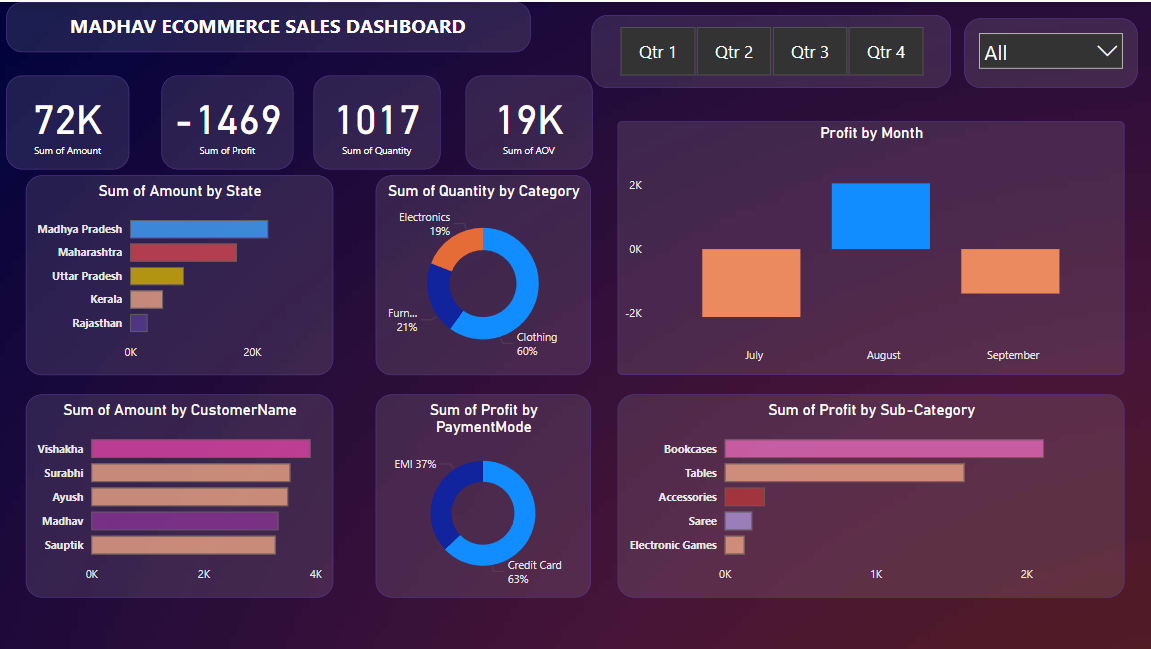

Layout of this report page (visuals, bound fields, positions):
{"tool":"powerbi","page":{"name":"Page 1","canvas":[1280,720],"ordinal":0},"visuals":[{"type":"textbox","box":[9.6,0,580.8,55.8],"z":0},{"type":"columnChart","title":"Profit by Month","fields":{"Category":["Orders.Order Date.Variation.Date Hierarchy.Month"],"Y":["Sum(Details.Profit)"]},"box":[686.5,132.7,561.5,280.8],"z":1000},{"type":"barChart","fields":{"Category":["Details.Sub-Category"],"Y":["Sum(Details.Profit)"]},"box":[686.5,434.6,561.5,225],"z":2000},{"type":"donutChart","fields":{"Category":["Details.Category"],"Y":["Sum(Details.Quantity)"]},"box":[419.2,192.3,238.5,221.2],"z":3000},{"type":"donutChart","fields":{"Category":["Details.PaymentMode"],"Y":["Sum(Details.Profit)"]},"box":[419.2,434.6,238.5,225],"z":4000},{"type":"card","fields":{"Values":["Sum(Details.Amount)"]},"box":[9.6,80.8,136.5,103.8],"z":5000},{"type":"card","fields":{"Values":["Sum(Details.Profit)"]},"box":[180.8,80.8,146.2,103.8],"z":6000},{"type":"card","fields":{"Values":["Sum(Details.Quantity)"]},"box":[350,80.8,140.4,103.8],"z":7000},{"type":"card","fields":{"Values":["Sum(Details.AOV)"]},"box":[517.3,80.8,140.4,103.8],"z":8000},{"type":"barChart","fields":{"Category":["Orders.State"],"Y":["Sum(Details.Amount)"]},"box":[30.8,192.3,340.4,221.2],"z":9000},{"type":"barChart","fields":{"Category":["Orders.CustomerName"],"Y":["Sum(Details.Amount)"]},"box":[30.8,434.6,340.4,225],"z":10000},{"type":"slicer","fields":{"Values":["Orders.Order Date.Variation.Date Hierarchy.Quarter"]},"box":[657.7,15.4,398.1,80.8],"z":11000},{"type":"slicer","fields":{"Values":["Orders.State"]},"box":[1071.2,17.3,192.3,76.9],"z":12000}]}

Visuals, with their boxes in screenshot pixels (x1, y1, x2, y2), scaled from the page's 1280x720 canvas onto the 1151x649 screenshot:
textbox: crop(9, 0, 531, 50)
"Profit by Month" columnChart: crop(617, 120, 1122, 373)
barChart - Details.Sub-Category x Sum(Details.Profit): crop(617, 392, 1122, 595)
donutChart - Details.Category x Sum(Details.Quantity): crop(377, 173, 591, 373)
donutChart - Details.PaymentMode x Sum(Details.Profit): crop(377, 392, 591, 595)
card - Sum(Details.Amount): crop(9, 73, 131, 166)
card - Sum(Details.Profit): crop(163, 73, 294, 166)
card - Sum(Details.Quantity): crop(315, 73, 441, 166)
card - Sum(Details.AOV): crop(465, 73, 591, 166)
barChart - Orders.State x Sum(Details.Amount): crop(28, 173, 334, 373)
barChart - Orders.CustomerName x Sum(Details.Amount): crop(28, 392, 334, 595)
slicer - Orders.Order Date.Variation.Date Hierarchy.Quarter: crop(591, 14, 949, 87)
slicer - Orders.State: crop(963, 16, 1136, 85)
